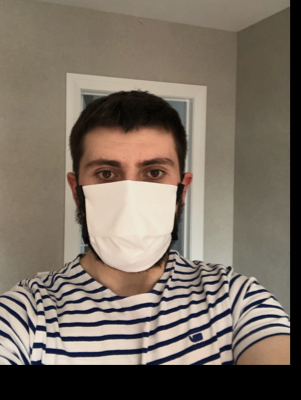with_mask: (79, 147, 179, 273)
